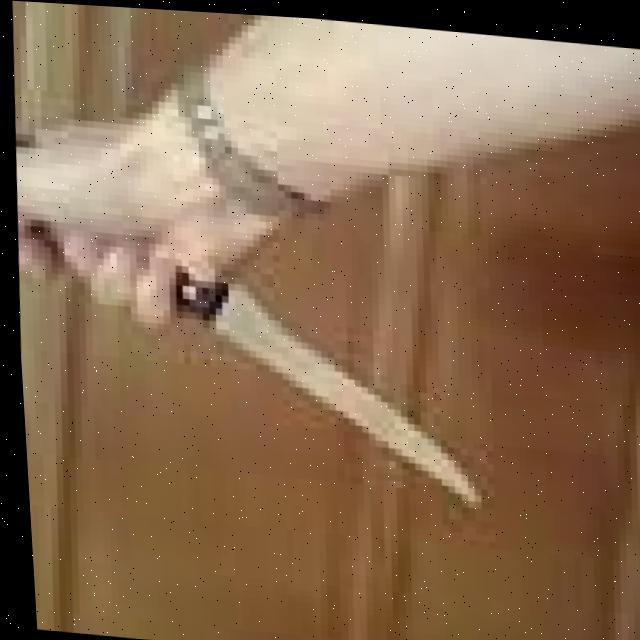knife: (162, 261, 484, 505)
